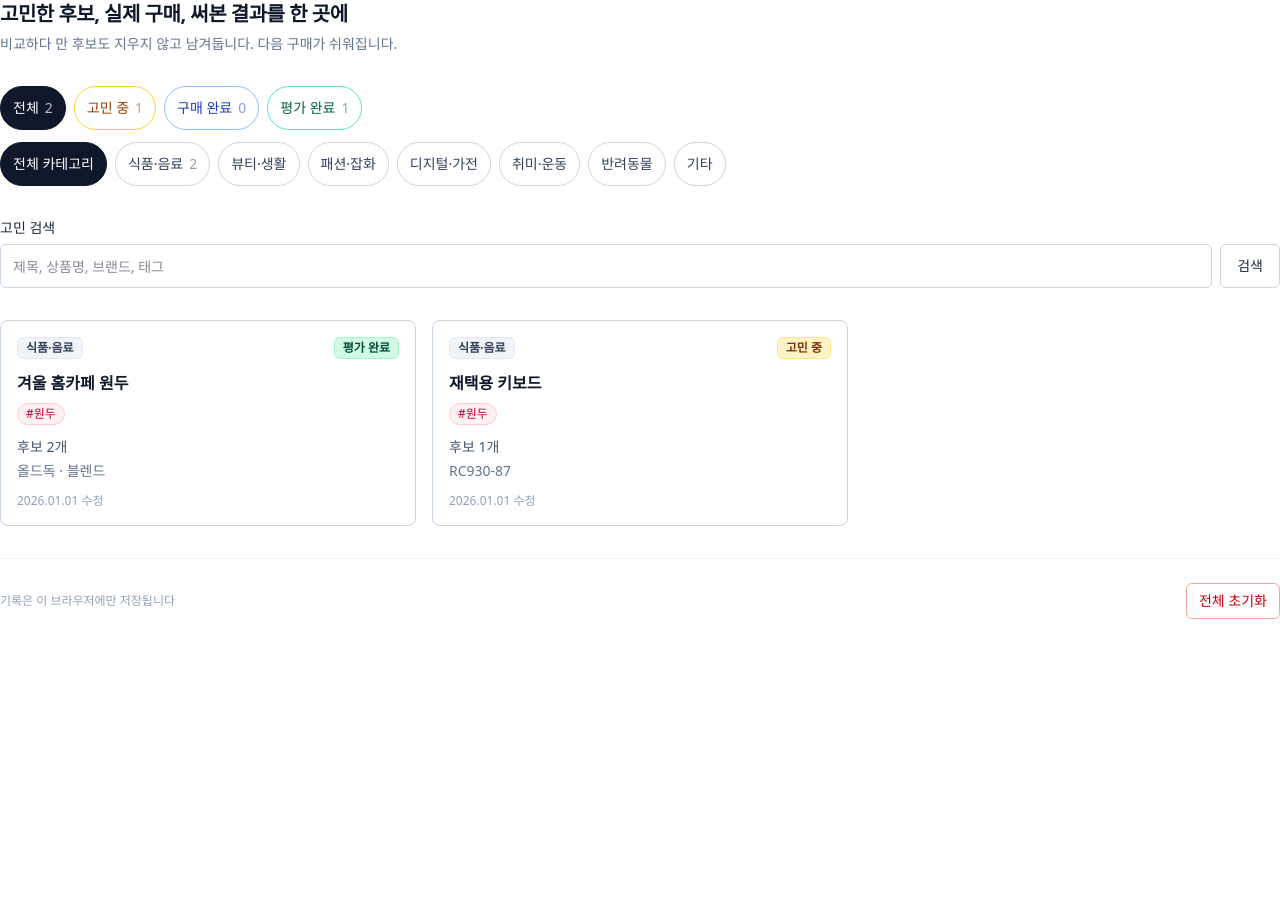
Test case: 블록 52 — 전체 초기화 › 확정하면 전부 지워지고 초기화 버튼도 사라진다
This screenshot has width=1280, height=900.
Click the button "전체 초기화".
click(1233, 601)  # box x1=1186 y1=583 x2=1279 y2=619
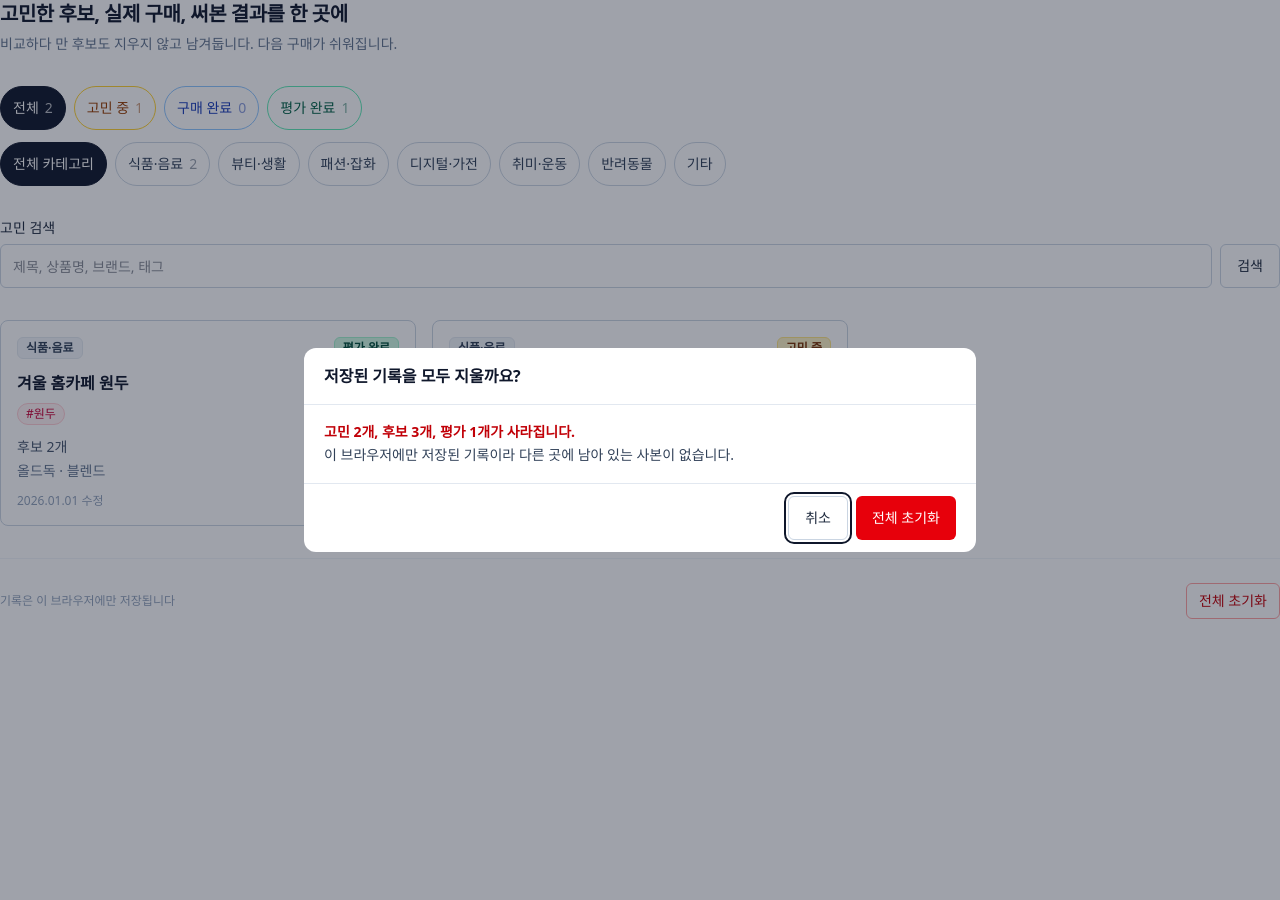
Click the button "전체 초기화".
click(906, 518)  # box x1=856 y1=496 x2=956 y2=540
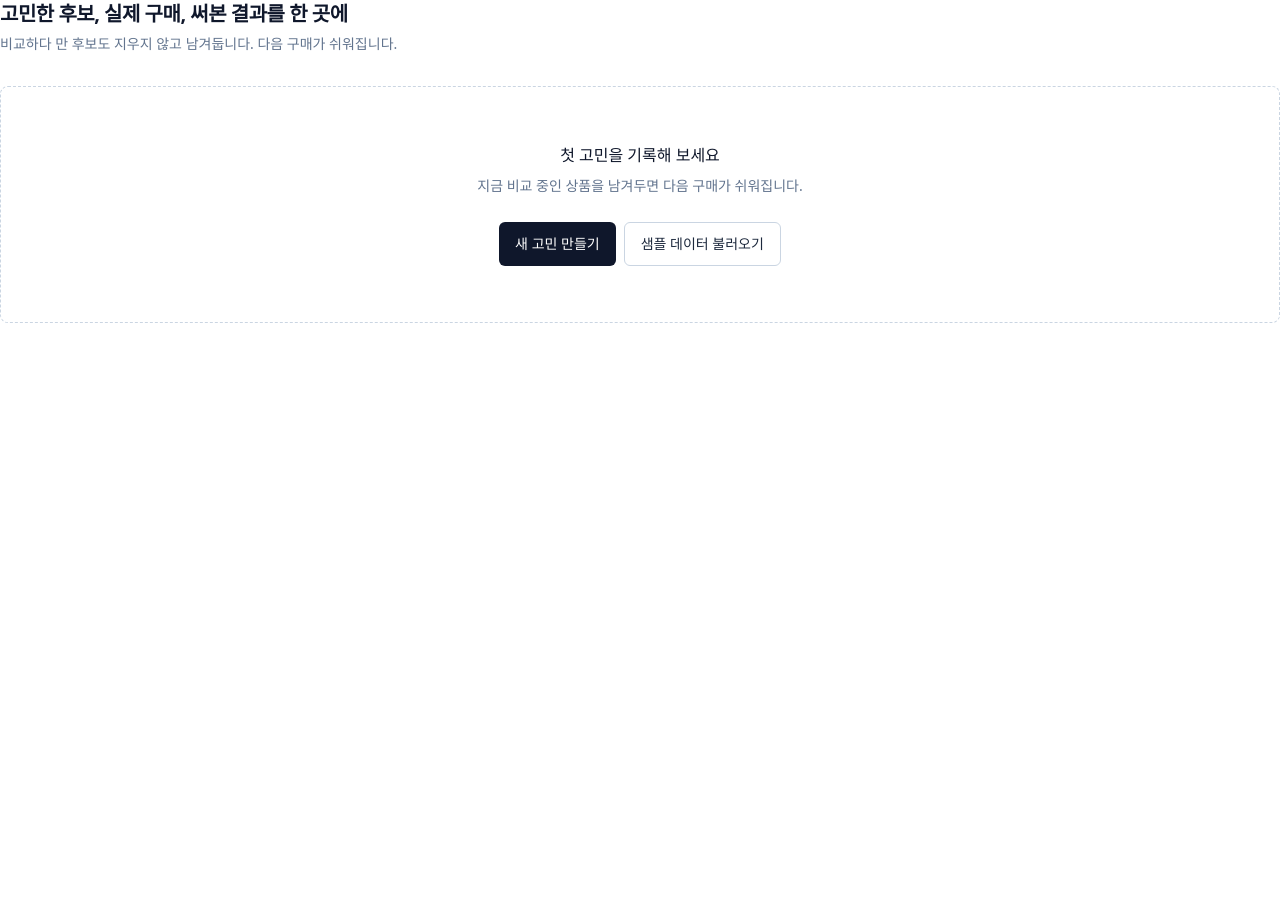
Now the button "전체 초기화" is gone
Now the link "겨울 홈카페 원두" is gone
